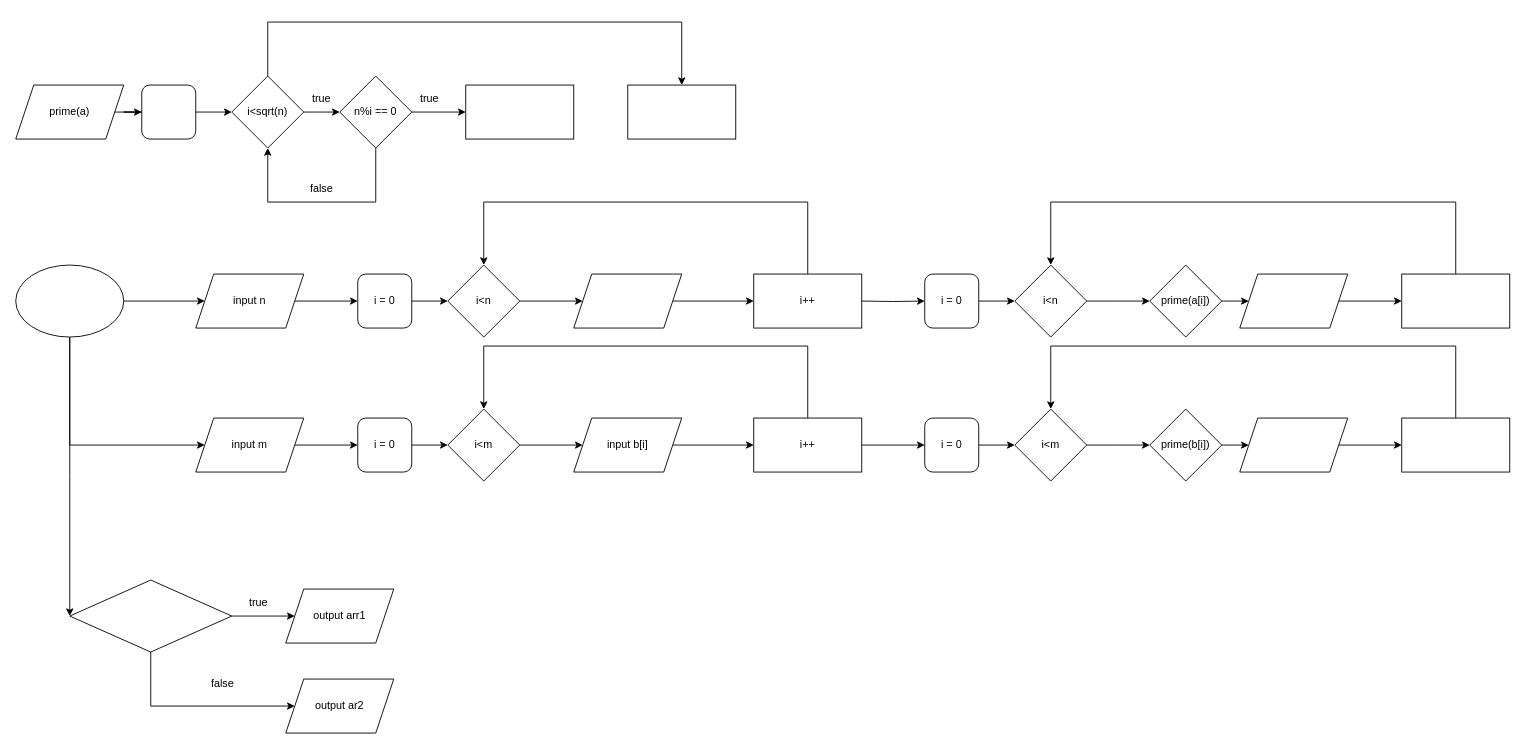
Some shapes in this 1526 by 749 pixel diagram are drawn without their labels. The shapes that lost their labels are listed below. From the top down, each one's box as (x1, y1, x2, y2) in pixels, then its label:
(141, 84, 196, 139): i = 2;
(465, 84, 574, 139): return false;
(627, 84, 736, 139): return true
(15, 264, 124, 337): start
(573, 273, 682, 328): input a[i]
(1239, 273, 1348, 328): output a[i]
(1401, 273, 1510, 328): i++ count1++
(1239, 417, 1348, 472): output b[i]
(1401, 417, 1510, 472): i++ count2++
(69, 579, 232, 652): count1 > count2
